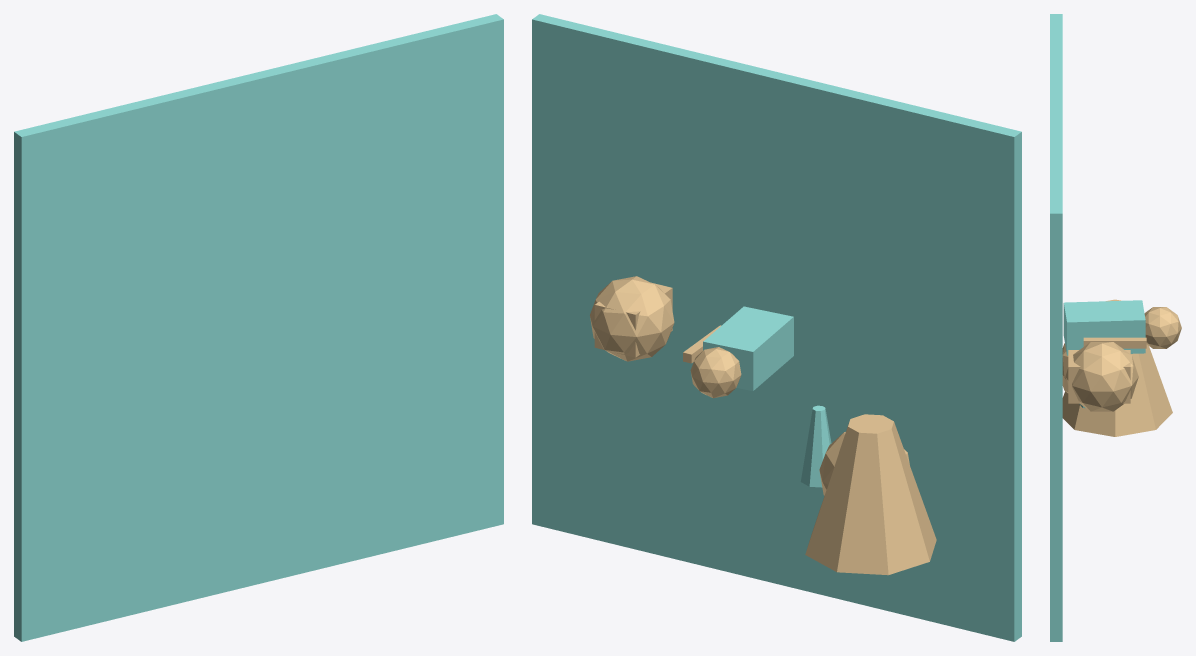
File: voxhaven-kit.glb
The picture shows the model from 3 angles, left to right: view 1: azimuth 30°, elevation 25°; view 2: azimuth 150°, elevation 25°; view 3: azimuth 270°, elevation 25°; orthographic projection. The views are drawn at different scales.
Parts seen in each view (by area): view 1: ENVIRONMENT_GROUND; view 2: ENVIRONMENT_GROUND, ENVIRONMENT_LANDMARK, OBSTACLE, PLAYER_BODY, PLAYER_HEAD, PROFILE_ENVIRONMENT_SPIRE, PROFILE_ENVIRONMENT_DETAIL; view 3: ENVIRONMENT_GROUND, ENVIRONMENT_LANDMARK, OBSTACLE, PLAYER_BODY, PLAYER_HEAD, PROFILE_OBSTACLE_DETAIL, PLAYER_TOOL, PROFILE_ENVIRONMENT_DETAIL.
Boxes of the visible parts, x1,y1,x2,y2 form: ENVIRONMENT_GROUND: (14, 14, 503, 641); ENVIRONMENT_GROUND: (532, 14, 1021, 641); ENVIRONMENT_LANDMARK: (805, 414, 936, 575); OBSTACLE: (590, 276, 674, 361); PLAYER_BODY: (703, 306, 793, 390); PLAYER_HEAD: (690, 347, 741, 398); PROFILE_ENVIRONMENT_SPIRE: (800, 405, 831, 487); PROFILE_ENVIRONMENT_DETAIL: (819, 432, 909, 495); ENVIRONMENT_GROUND: (1050, 14, 1062, 641); ENVIRONMENT_LANDMARK: (1062, 299, 1172, 436); OBSTACLE: (1065, 342, 1138, 411); PLAYER_BODY: (1063, 300, 1145, 355); PLAYER_HEAD: (1144, 307, 1181, 348); PROFILE_OBSTACLE_DETAIL: (1068, 350, 1130, 403); PLAYER_TOOL: (1083, 337, 1146, 348); PROFILE_ENVIRONMENT_DETAIL: (1062, 343, 1068, 392).
Size of what is drawn, in the model's own units: 9 by 9 by 2.51.
